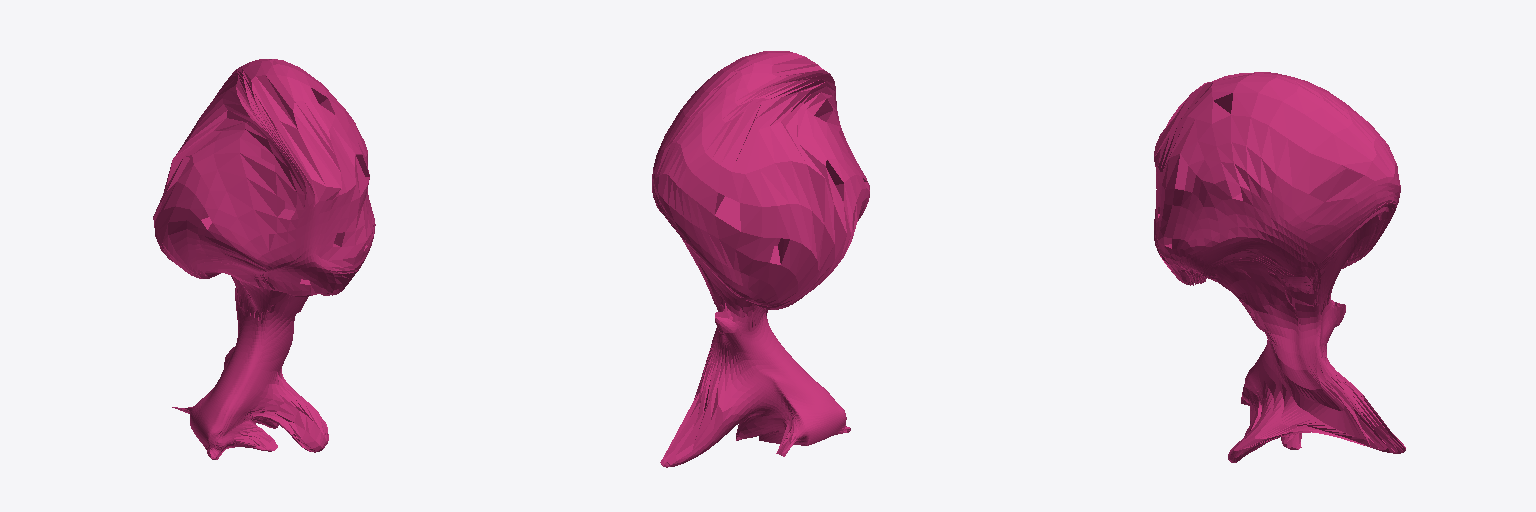
Rendered from treething.obj.
The picture shows the model from 3 angles: view 1: azimuth 30°, elevation 25°; view 2: azimuth 150°, elevation 25°; view 3: azimuth 270°, elevation 25°; orthographic projection.
Parts seen in each view (by area): view 1: Cube; view 2: Cube; view 3: Cube.
Boxes of the visible parts, <box> form: Cube: <box>153,59,375,459</box>; Cube: <box>652,51,869,467</box>; Cube: <box>1154,72,1405,462</box>.
Size of the model in its own units: 4.44 by 8.67 by 5.27.